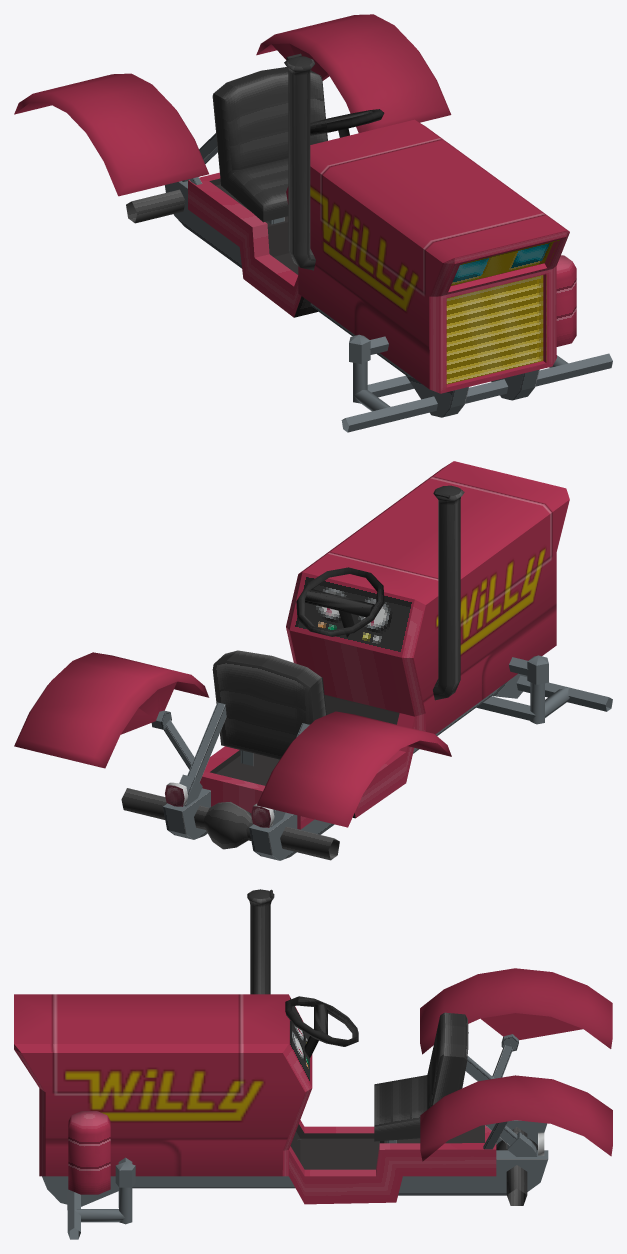
The model's file is body.obj.
3 views of the same model, one above another, from view 1: azimuth 30°, elevation 25°; view 2: azimuth 150°, elevation 25°; view 3: azimuth 270°, elevation 25° (orthographic). The views are drawn at different scales.
Visible parts, largest first — view 1: Tractor; view 2: Tractor; view 3: Tractor.
Boxes of the visible parts, bbox=[...] form: Tractor: bbox=[14, 14, 612, 432]; Tractor: bbox=[14, 461, 612, 860]; Tractor: bbox=[14, 889, 612, 1239].
Size of the model in its own units: 1.94 by 1.63 by 3.33.
